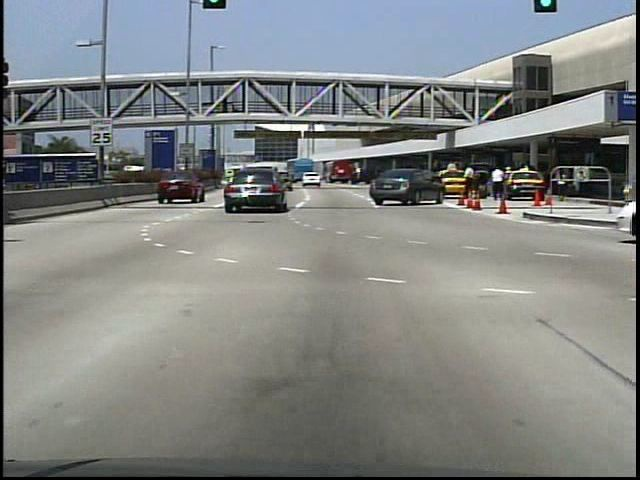person: (489, 164, 508, 203), (463, 165, 481, 205), (553, 168, 570, 205), (506, 166, 518, 201), (222, 95, 232, 116)
